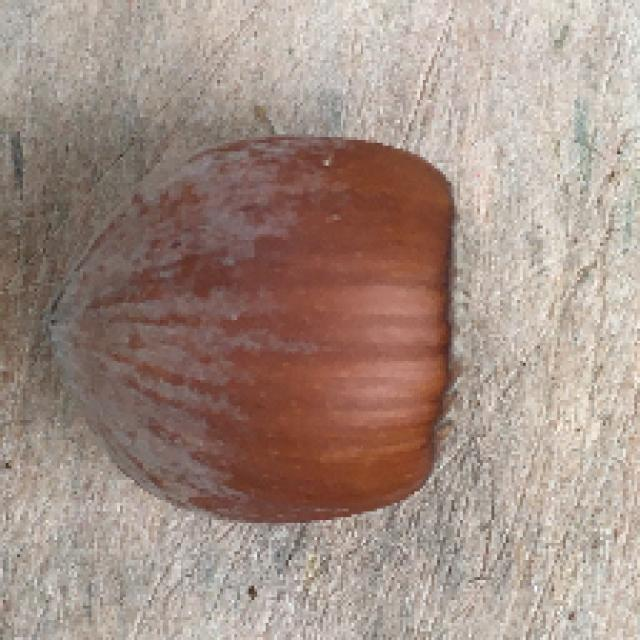qualityHazelnut: (39, 121, 486, 554)
